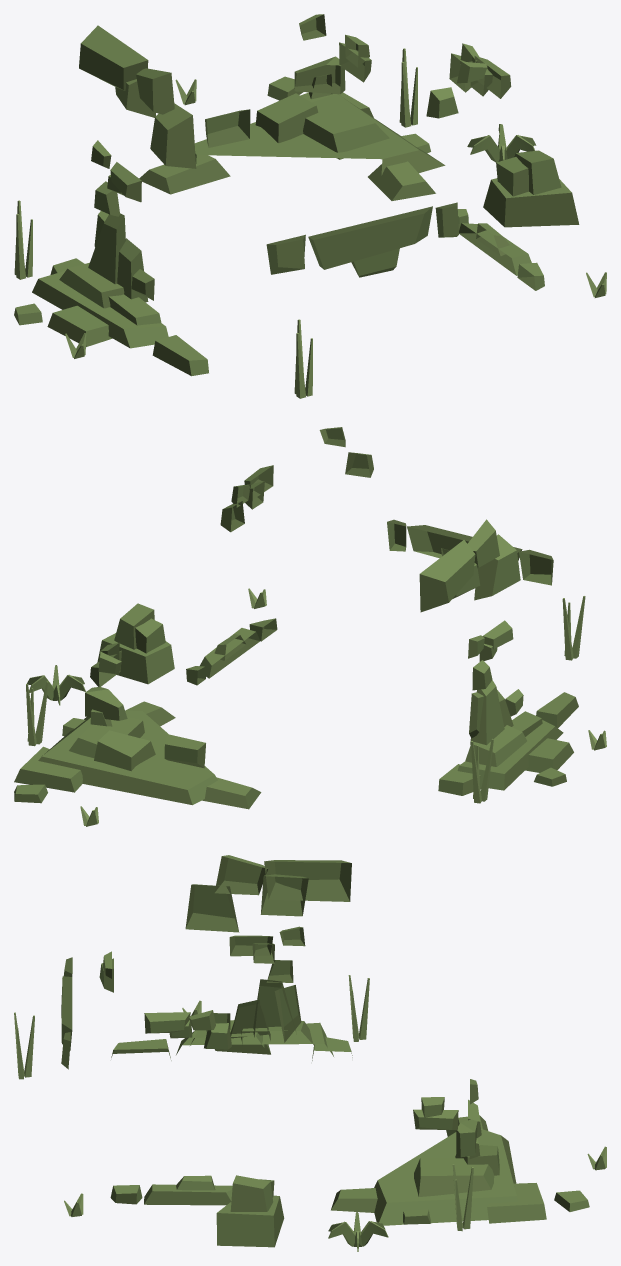
The model's file is SA_Bld_HouseGarage_Growth_Damaged_01.gltf.
The picture shows the model from 3 angles, top to bottom: view 1: azimuth 30°, elevation 25°; view 2: azimuth 150°, elevation 25°; view 3: azimuth 270°, elevation 25°; orthographic projection. The views are drawn at different scales.
Parts seen in each view (by area): view 1: SA_Bld_HouseGarage_Growth_Damaged_01; view 2: SA_Bld_HouseGarage_Growth_Damaged_01; view 3: SA_Bld_HouseGarage_Growth_Damaged_01.
Part boxes in pixels (<box>): SA_Bld_HouseGarage_Growth_Damaged_01: <box>14,14,606,398</box>; SA_Bld_HouseGarage_Growth_Damaged_01: <box>14,427,606,826</box>; SA_Bld_HouseGarage_Growth_Damaged_01: <box>14,855,606,1251</box>.
Size of the model in its own units: 20.18 by 8.57 by 21.05.
Materials: 1 (1 with a texture image).
